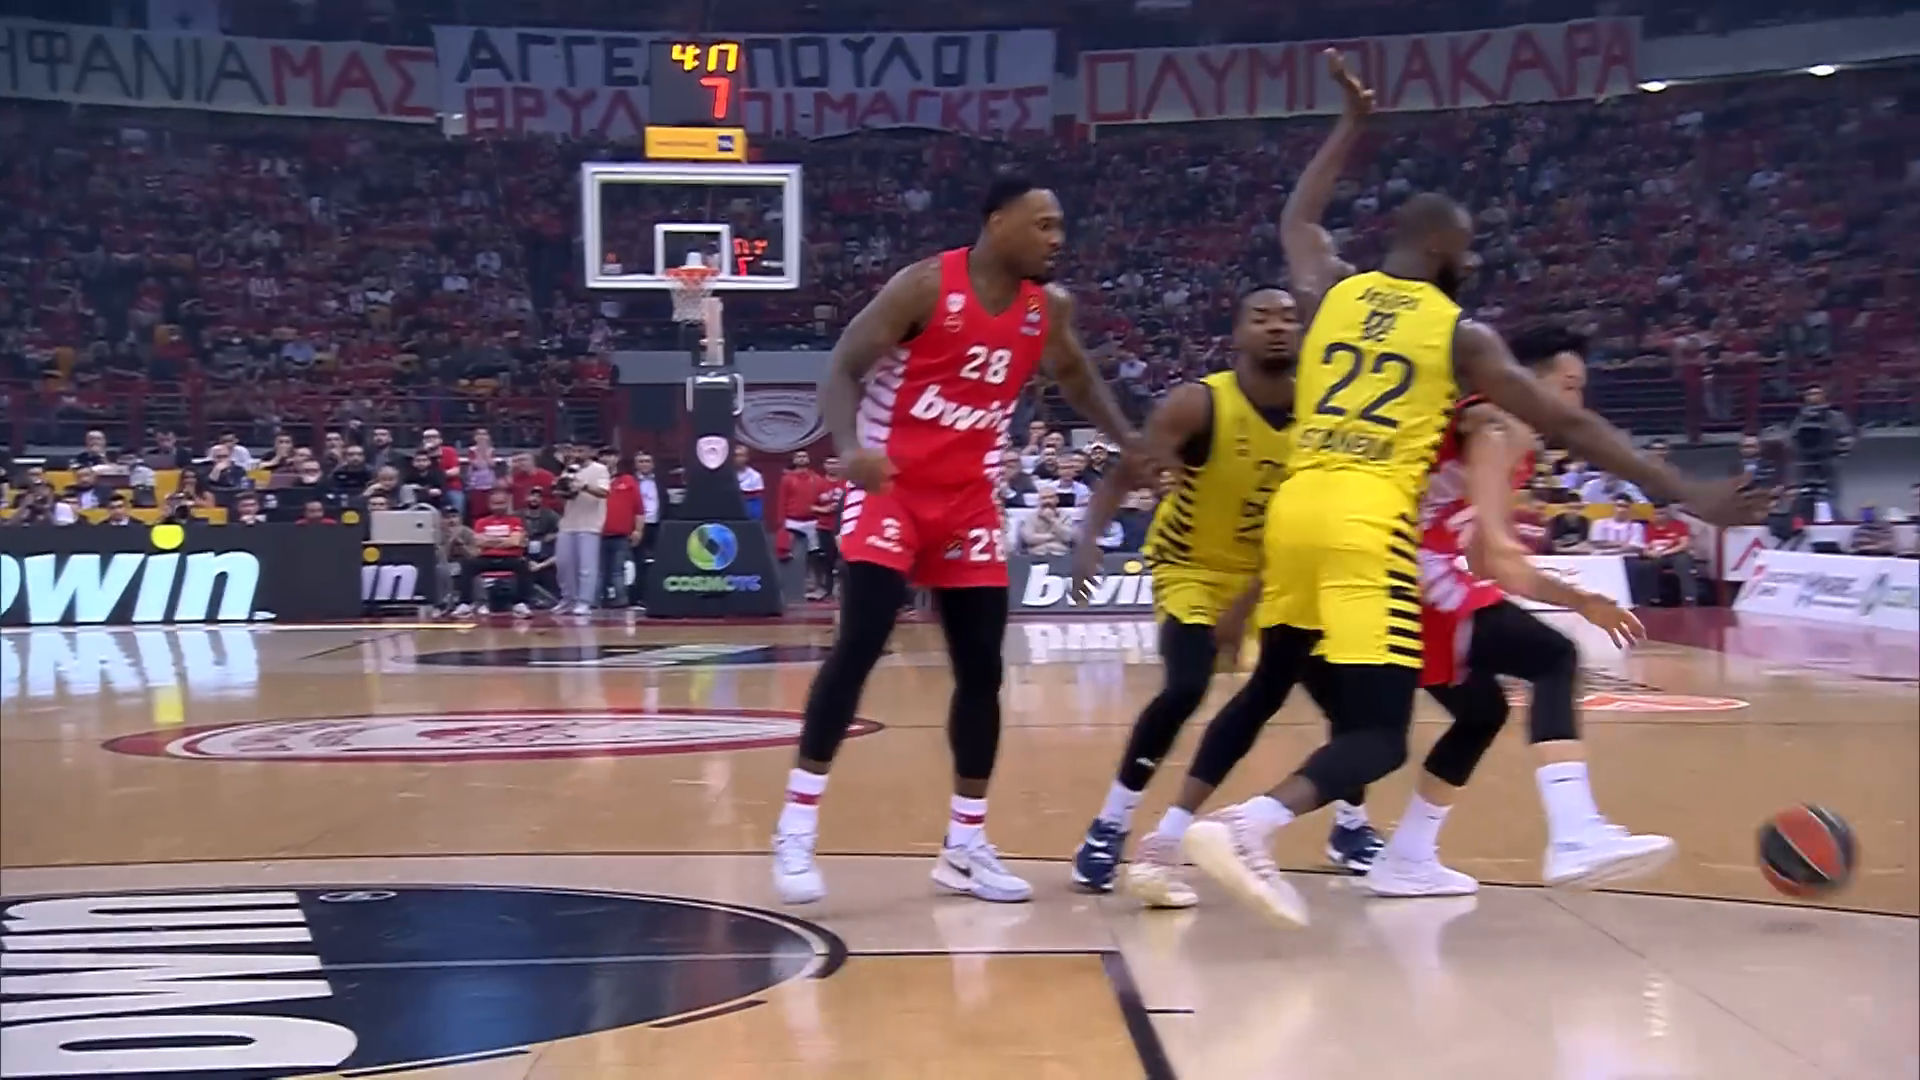ball: (1750, 796, 1861, 903)
net: (662, 262, 724, 324)
